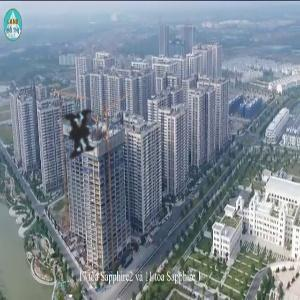drone: (13, 72, 140, 199)
